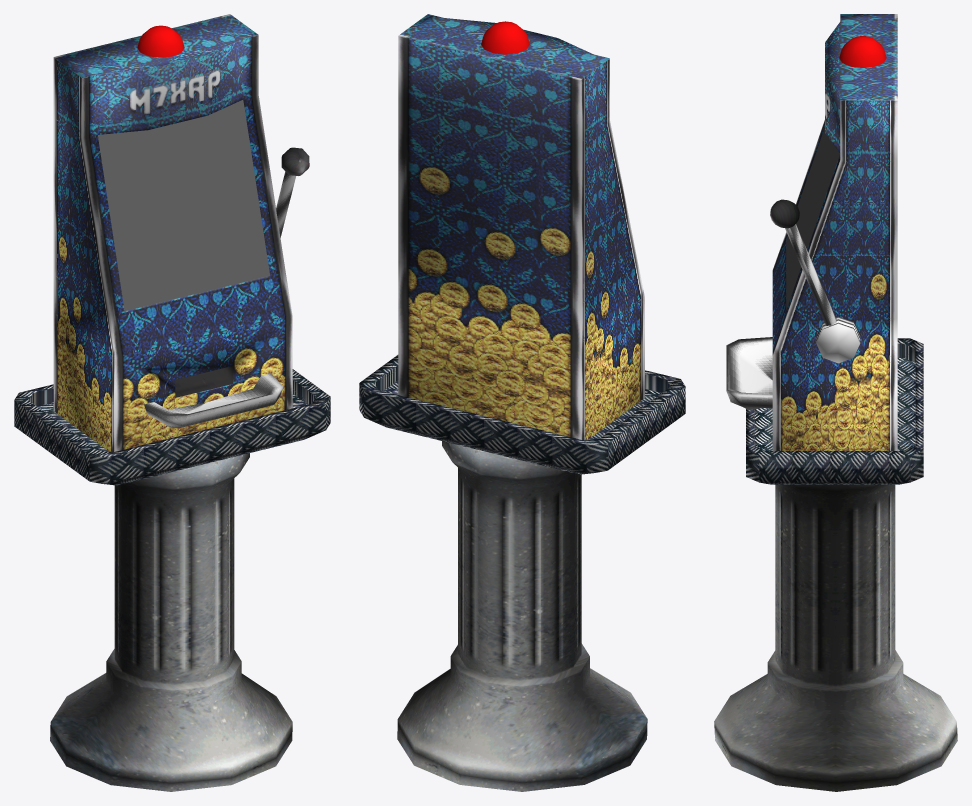
Rendered from slot Machine.fbx.
The picture shows the model from 3 angles, left to right: view 1: azimuth 30°, elevation 25°; view 2: azimuth 150°, elevation 25°; view 3: azimuth 270°, elevation 25°; orthographic projection. The views are drawn at different scales.
Parts seen in each view (by area): view 1: 3DSMesh_7, 3DSMesh_6, 3DSMesh_0, 3DSMesh_4, 3DSMesh_5, 3DSMesh_1, 3DSMesh_3; view 2: 3DSMesh_7, 3DSMesh_6, 3DSMesh_4, 3DSMesh_1; view 3: 3DSMesh_6, 3DSMesh_7, 3DSMesh_4, 3DSMesh_5, 3DSMesh_0, 3DSMesh_1, 3DSMesh_3.
Part boxes in pixels (box(x1,y1,x2,y2)): 3DSMesh_7: box(53, 14, 292, 451); 3DSMesh_6: box(50, 453, 292, 791); 3DSMesh_0: box(98, 100, 269, 310); 3DSMesh_4: box(14, 369, 330, 485); 3DSMesh_5: box(144, 172, 295, 427); 3DSMesh_1: box(137, 25, 184, 57); 3DSMesh_3: box(281, 147, 309, 175); 3DSMesh_7: box(398, 14, 644, 440); 3DSMesh_6: box(397, 441, 647, 791); 3DSMesh_4: box(359, 355, 685, 474); 3DSMesh_1: box(481, 21, 529, 54); 3DSMesh_6: box(714, 484, 957, 791); 3DSMesh_7: box(772, 14, 897, 450); 3DSMesh_4: box(746, 338, 923, 484); 3DSMesh_5: box(726, 224, 860, 409); 3DSMesh_0: box(786, 127, 839, 309); 3DSMesh_1: box(839, 36, 886, 67); 3DSMesh_3: box(770, 199, 799, 228).
Size of the model in its own units: 24.63 by 68.57 by 21.51.
5 materials, 5 textured.
